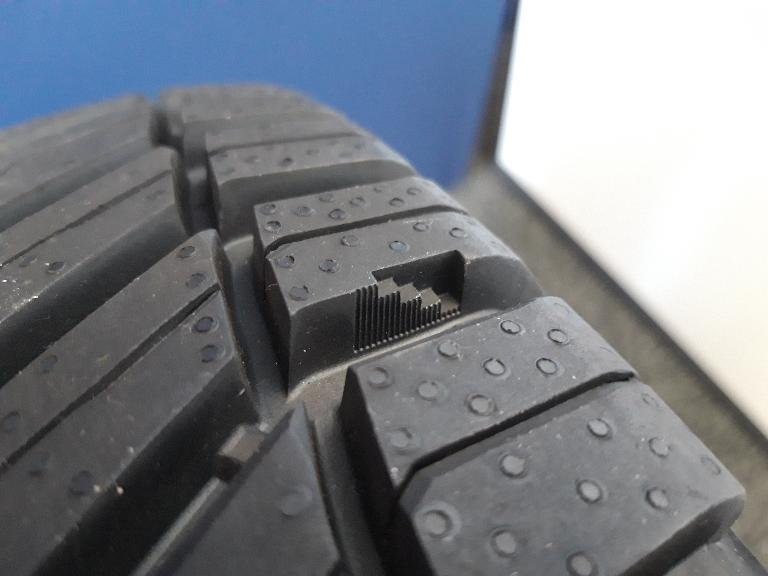temoin:100: (346, 244, 476, 360)
